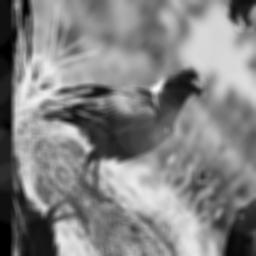Crow: (24, 0, 215, 230)
